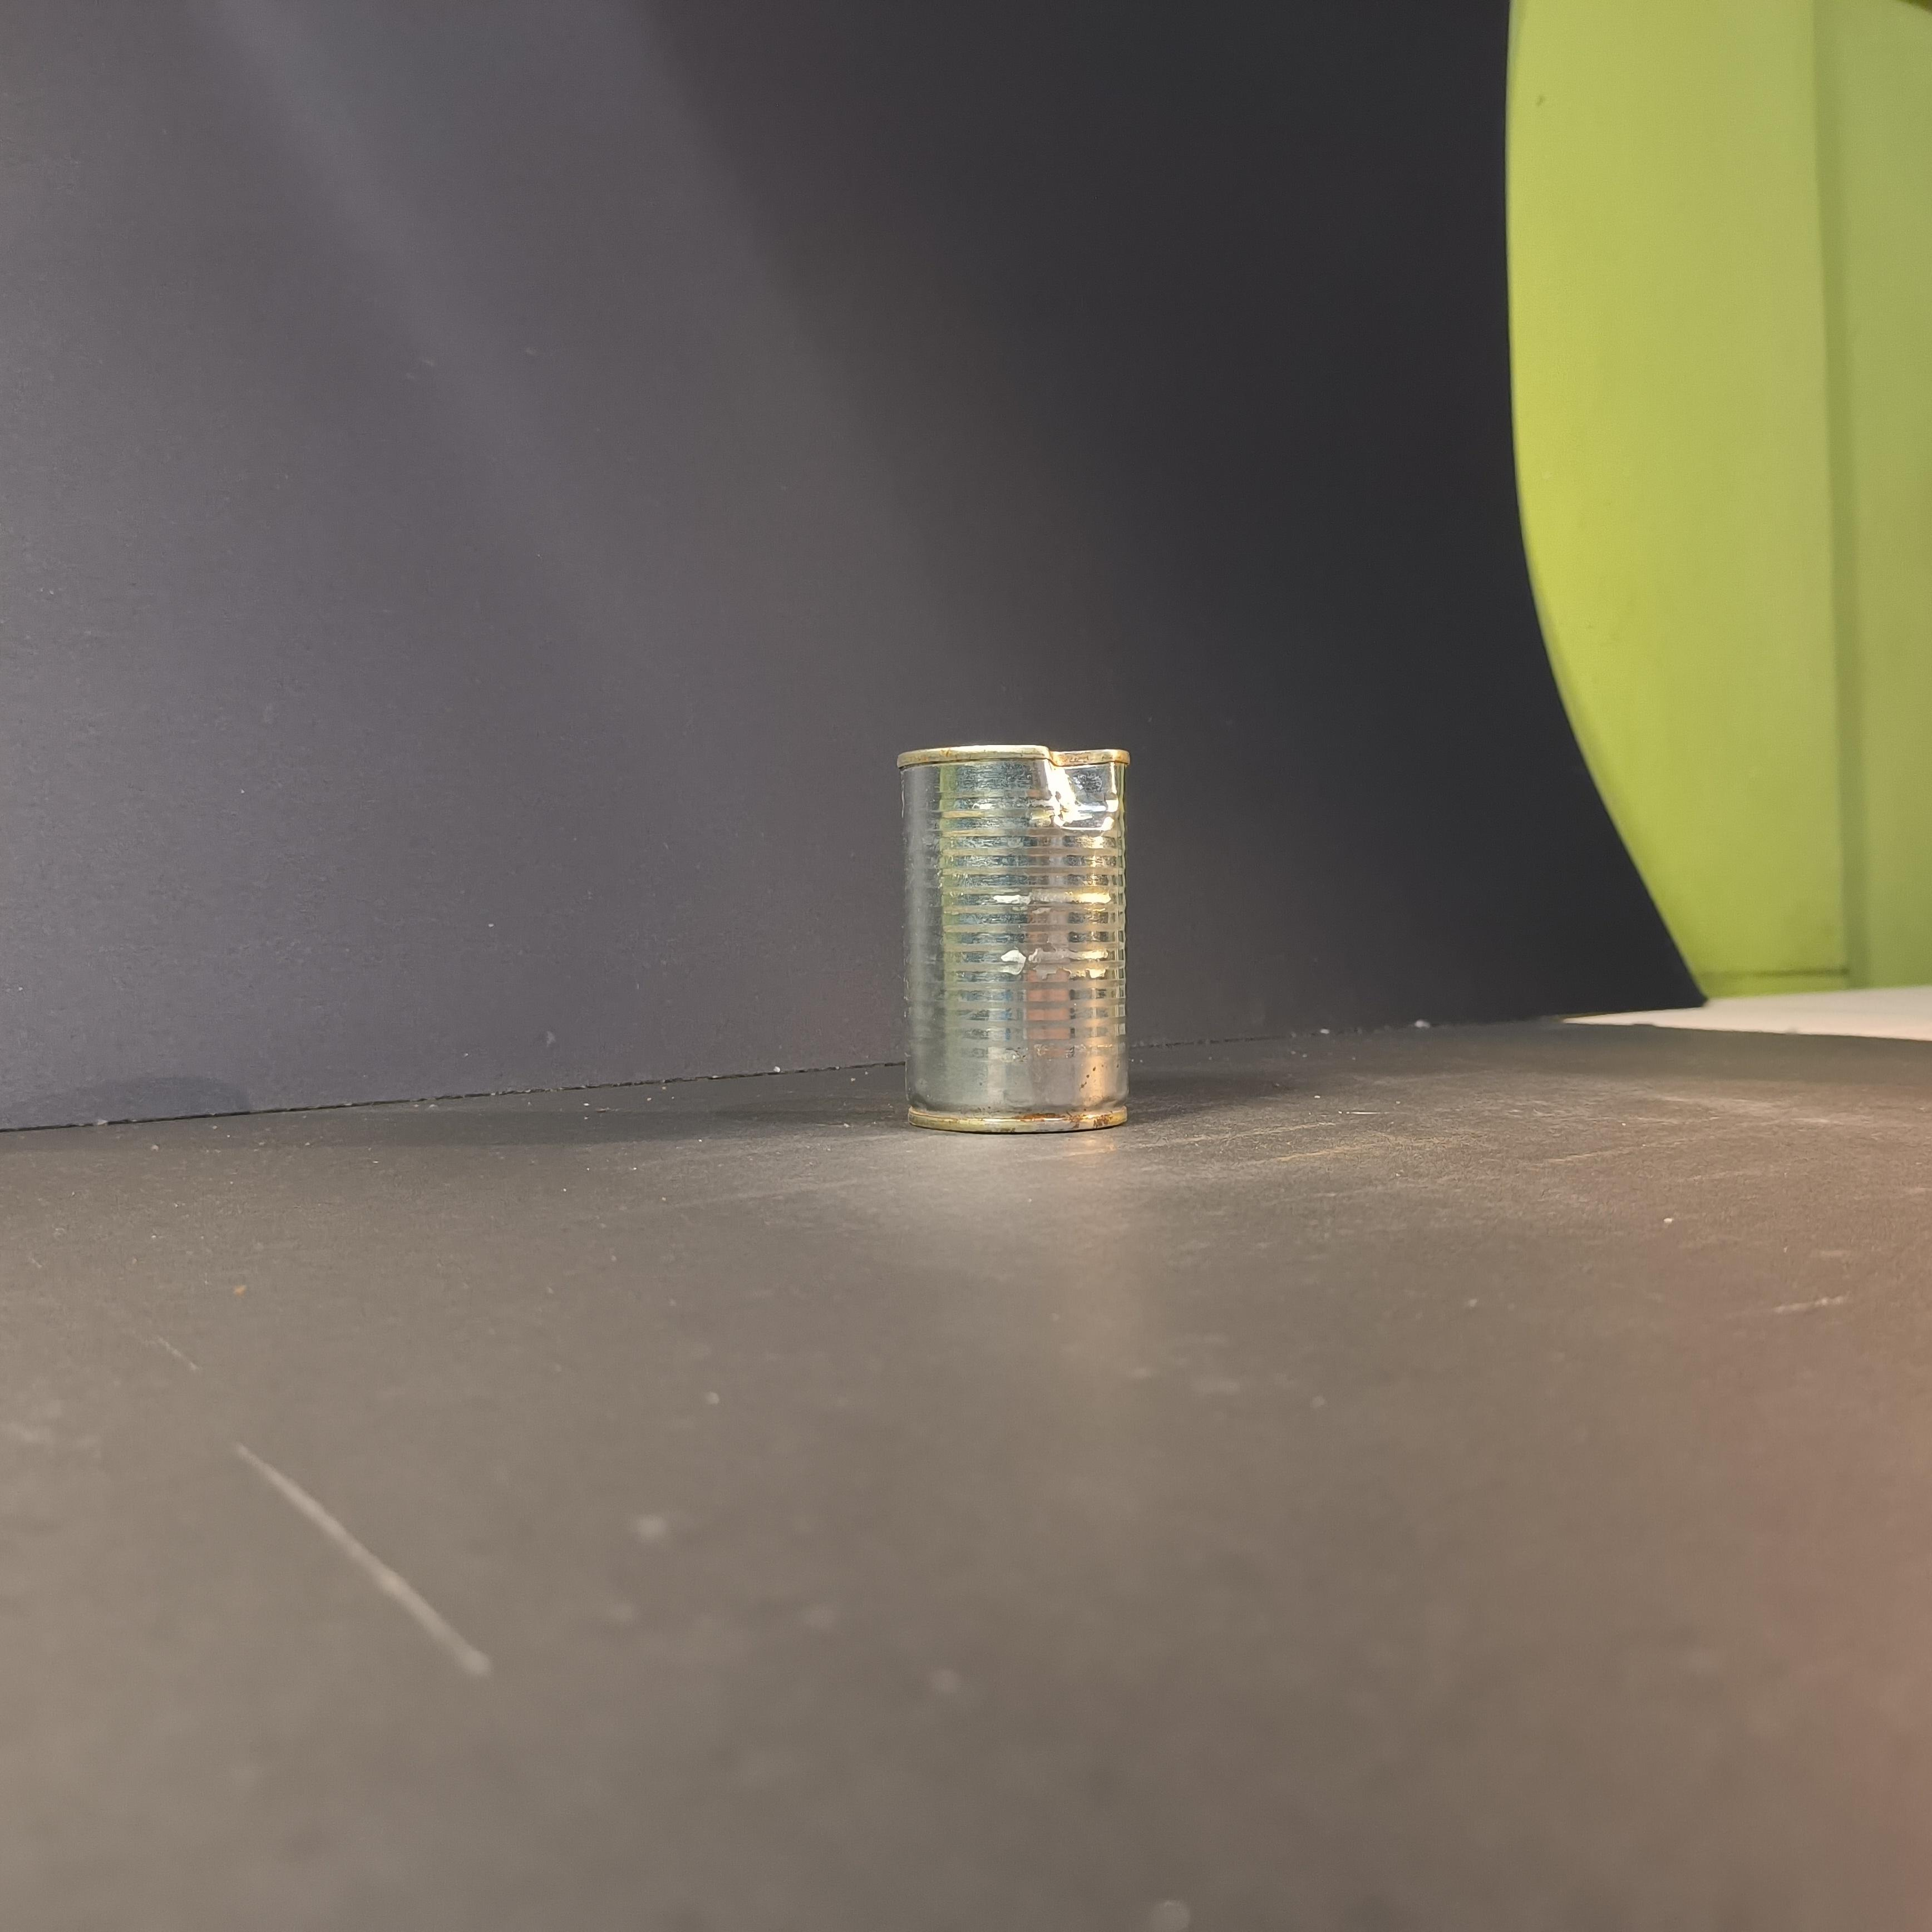Dented: (865, 713, 1146, 1161)
